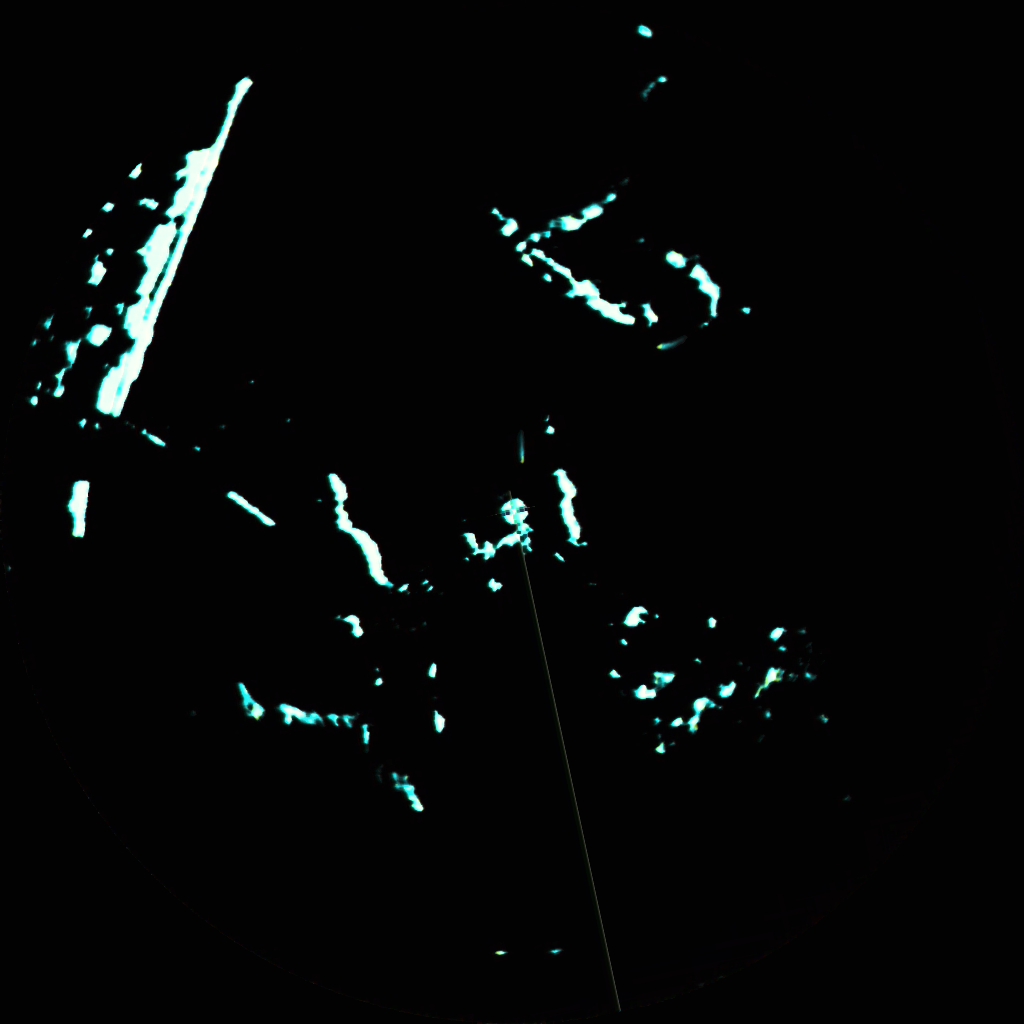B: (658, 340, 689, 350), (517, 433, 523, 462)
